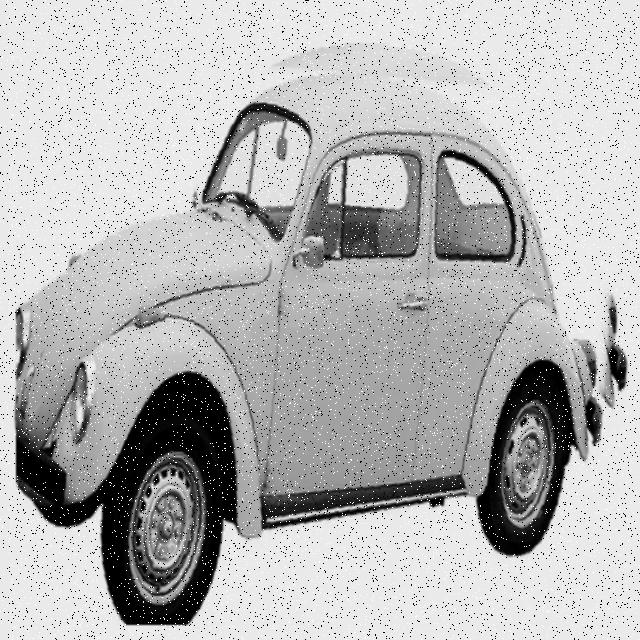car: (18, 44, 628, 626)
